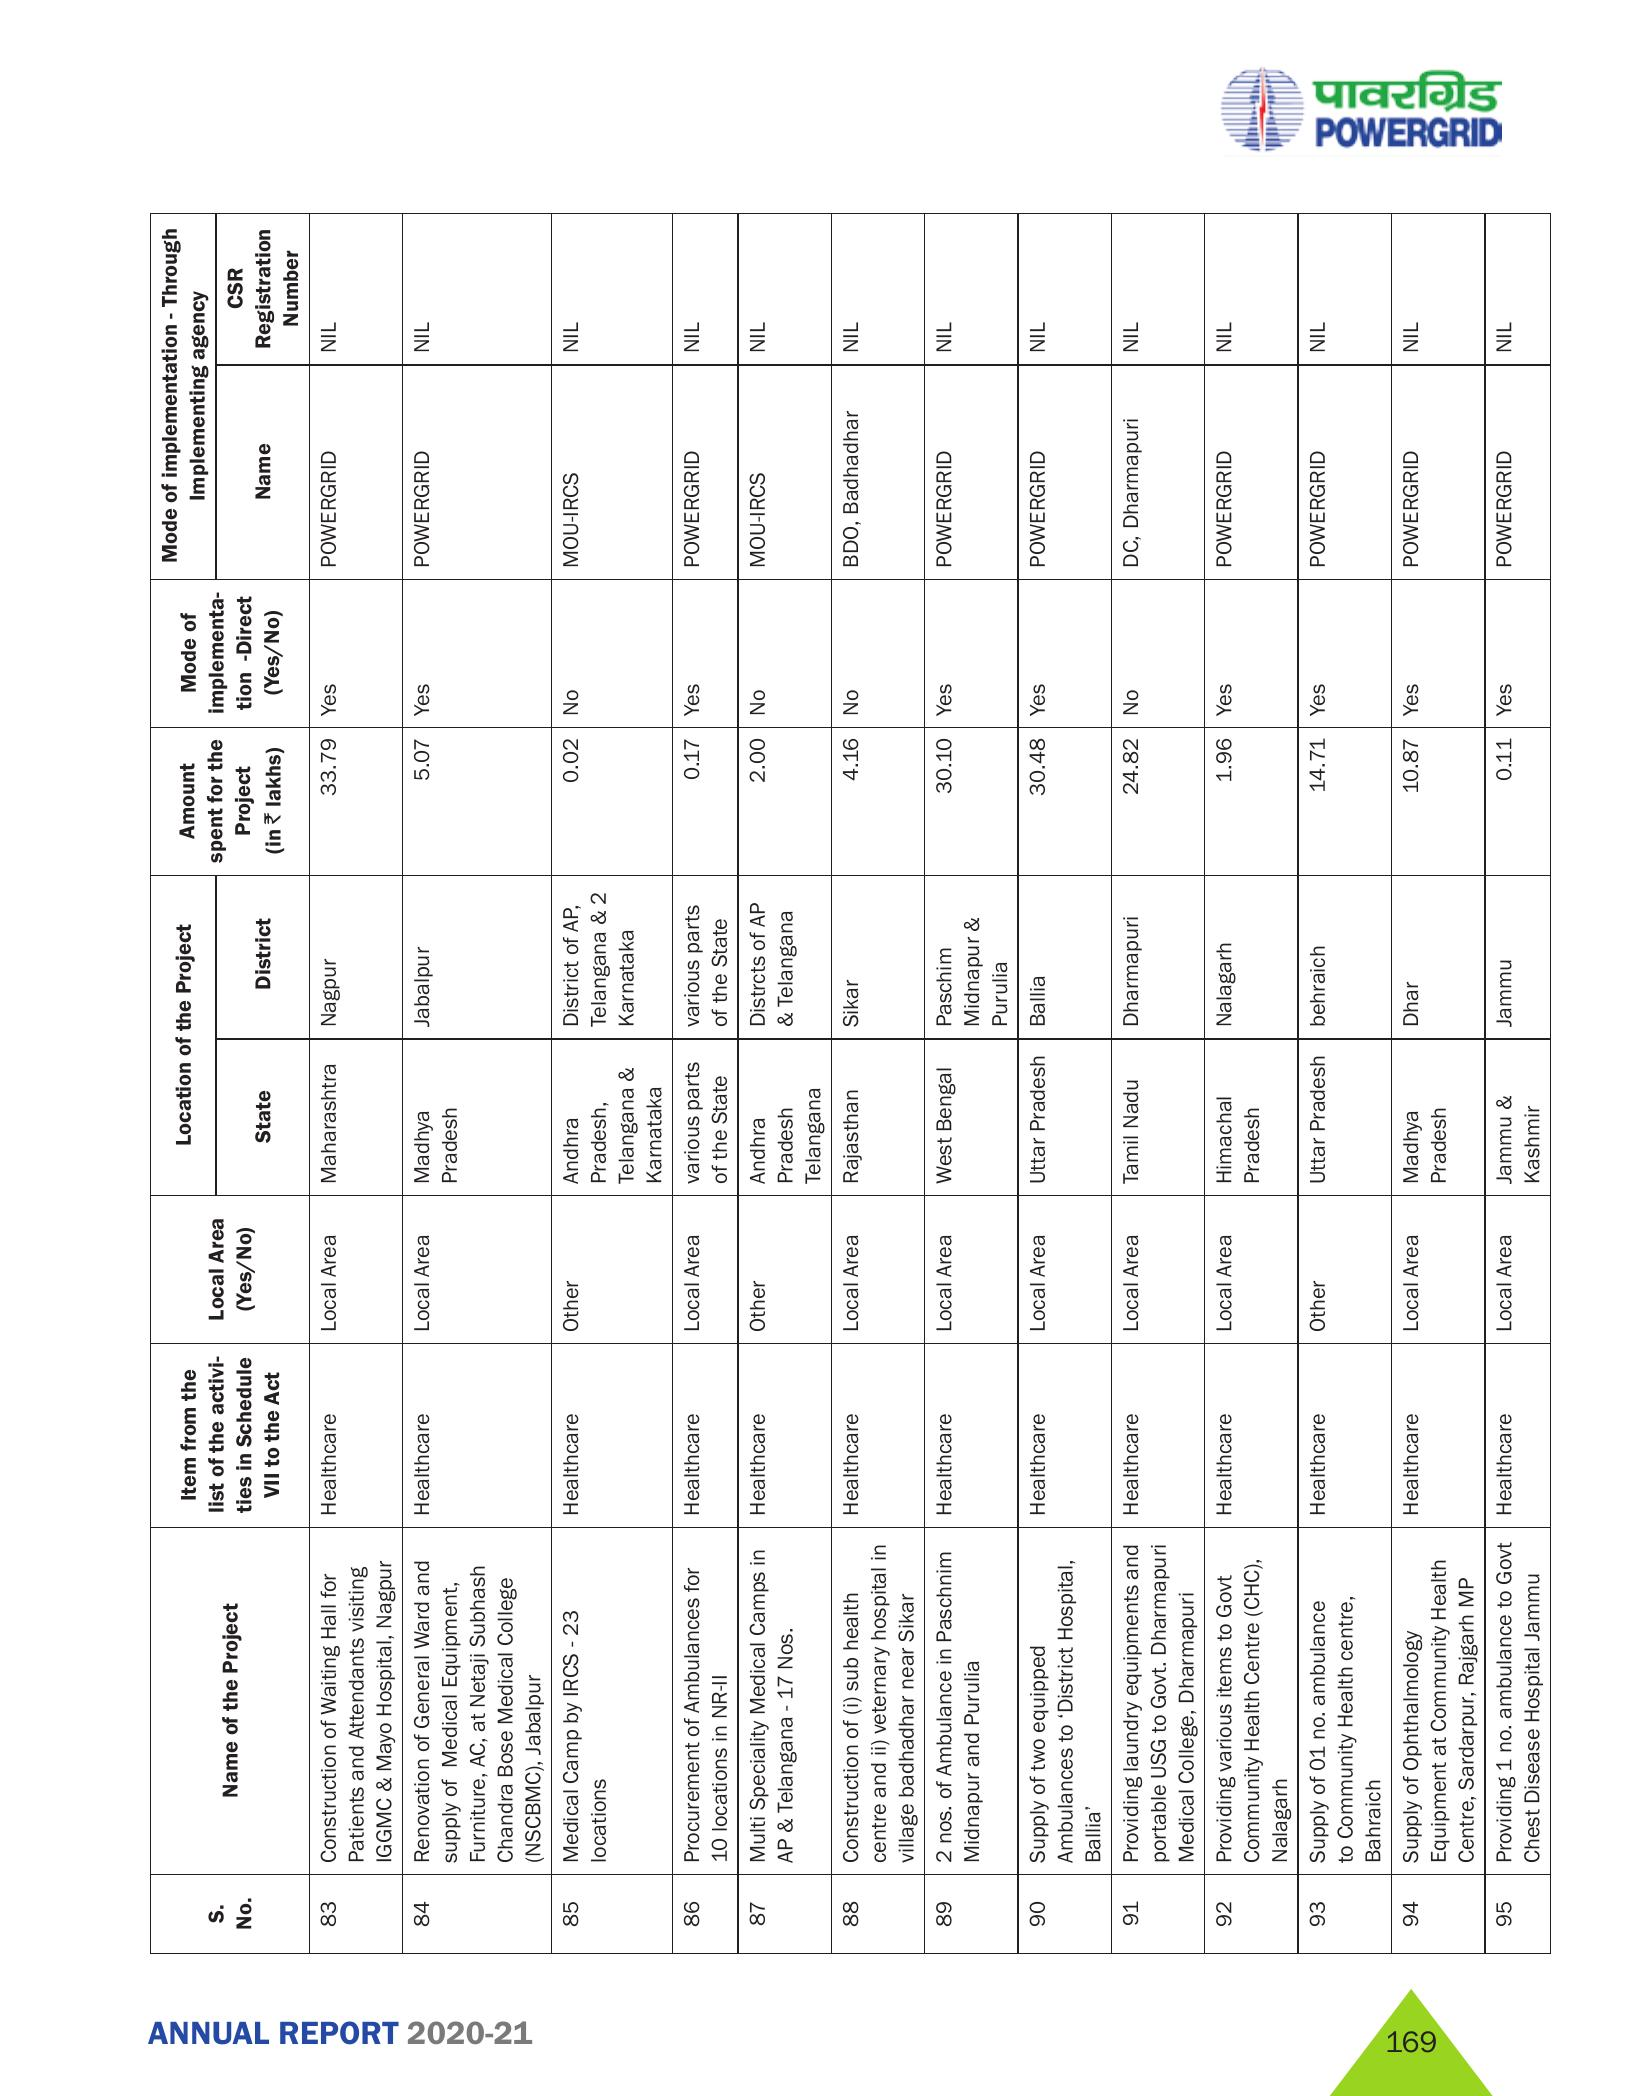Footer: (0, 1968, 1650, 2096)
Header: (0, 0, 1650, 158)
Table: (70, 208, 1592, 1982)
